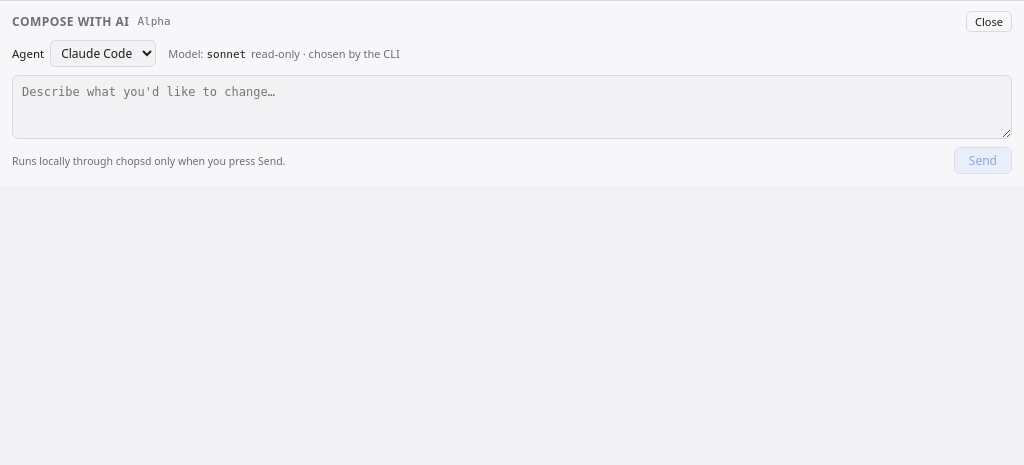
Test case: ComposePanel (T16 part B) › renders a diff proposal with summary, unified diff, and full file
Type "Tighten the wording" into the text box named "Compose prompt" at (512, 107), box [12,75,1012,139]
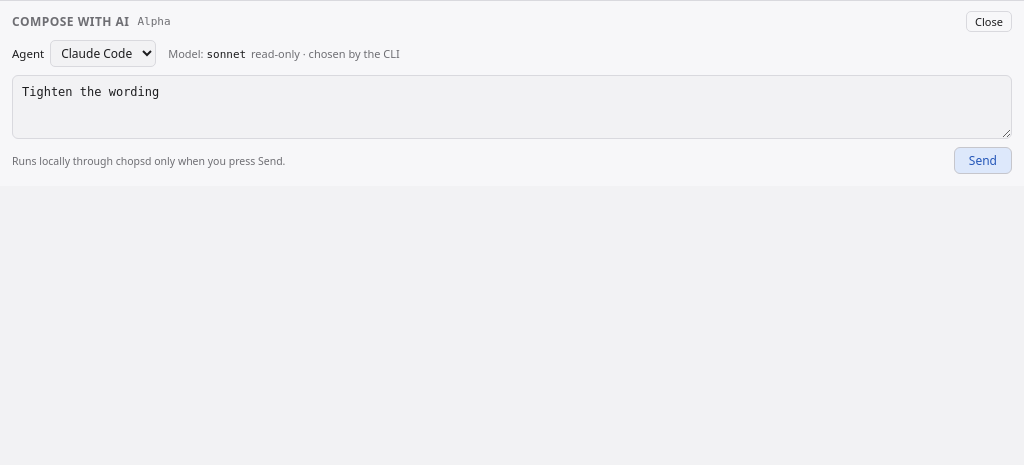
Click the button "Send" at (983, 160), box [954,147,1012,174]
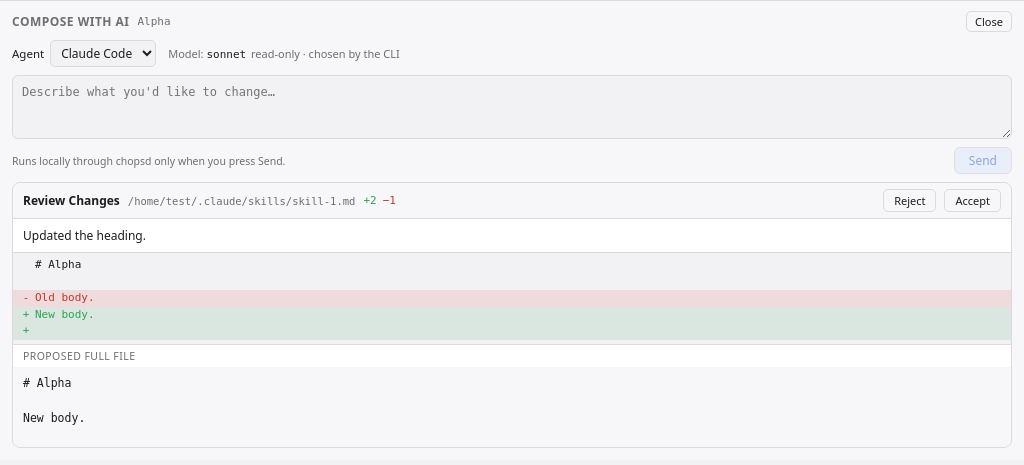
Now the text "Updated the heading." is shown, box [13,219,1011,253]
Now the list named "Unified diff" shows "Old body.", box [35,291,95,304]
Now the button "Accept" is shown, box [944,189,1001,212]
